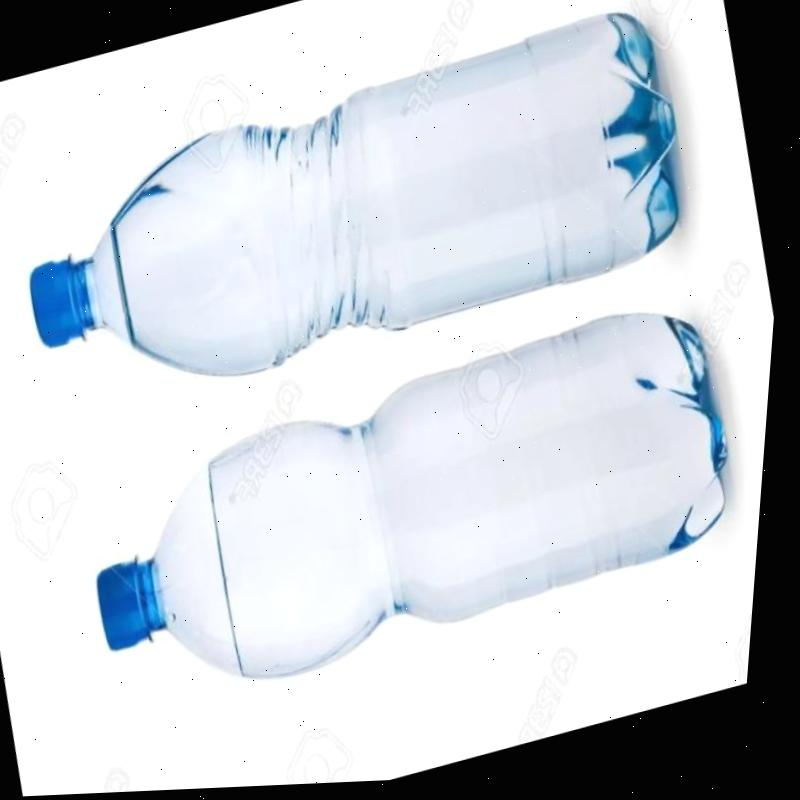botella: (0, 4, 717, 429), (68, 295, 769, 729)
